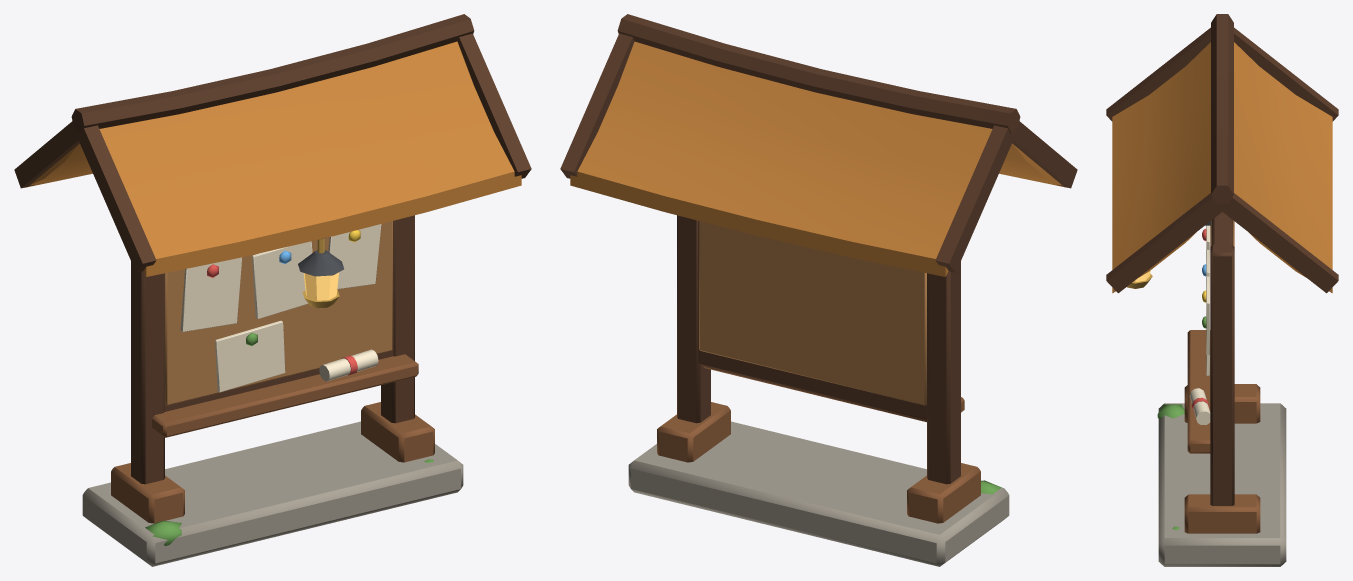
File: quest-board.glb
3 views of the same model, side by side, from view 1: azimuth 30°, elevation 25°; view 2: azimuth 150°, elevation 25°; view 3: azimuth 270°, elevation 25° (orthographic). The views are drawn at different scales.
Visible parts, largest first — view 1: BoardRoof_Shell, Part_TimberDark, StoneBase, CorkFace, Part_Parchment, Part_WoodWarm, Part_Iron, LanternGlass, Part_Moss; view 2: BoardRoof_Shell, Part_TimberDark, CorkFace, StoneBase, Part_WoodWarm; view 3: BoardRoof_Shell, Part_TimberDark, StoneBase, Part_WoodWarm, Part_Parchment, Part_Moss.
Boxes of the visible parts, bbox=[...] form: BoardRoof_Shell: bbox=[25, 41, 521, 276]; Part_TimberDark: bbox=[14, 14, 531, 484]; StoneBase: bbox=[82, 421, 463, 566]; CorkFace: bbox=[165, 221, 392, 405]; Part_Parchment: bbox=[180, 224, 381, 392]; Part_WoodWarm: bbox=[111, 354, 434, 523]; Part_Iron: bbox=[298, 237, 343, 276]; LanternGlass: bbox=[303, 272, 338, 300]; Part_Moss: bbox=[145, 332, 433, 545]; BoardRoof_Shell: bbox=[570, 41, 1066, 276]; Part_TimberDark: bbox=[560, 14, 1077, 484]; CorkFace: bbox=[699, 221, 926, 405]; StoneBase: bbox=[628, 421, 1009, 566]; Part_WoodWarm: bbox=[657, 366, 980, 523]; BoardRoof_Shell: bbox=[1112, 42, 1332, 293]; Part_TimberDark: bbox=[1106, 14, 1338, 505]; StoneBase: bbox=[1158, 403, 1286, 566]; Part_WoodWarm: bbox=[1184, 330, 1260, 533]; Part_Parchment: bbox=[1189, 225, 1210, 424]; Part_Moss: bbox=[1157, 316, 1206, 530].
Bounding box in the file's own units: 2.82 × 3.04 × 1.6.
